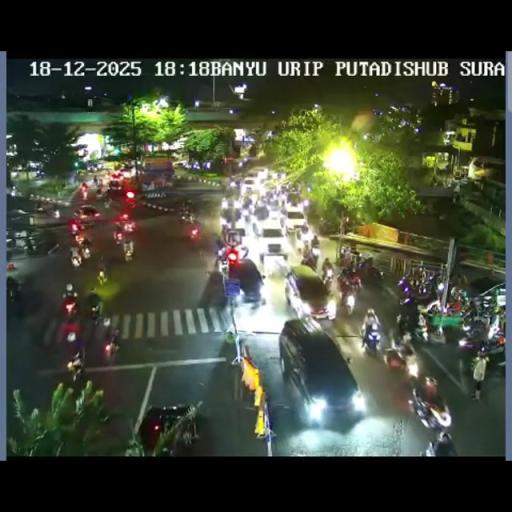Car: (280, 318, 362, 423), (138, 403, 201, 454), (283, 263, 334, 320), (226, 257, 264, 304), (258, 221, 290, 264), (282, 209, 308, 238), (226, 224, 248, 250), (75, 204, 102, 222), (240, 176, 262, 194), (118, 166, 136, 181), (108, 178, 122, 192), (270, 170, 284, 181)
Motorcycle: (48, 284, 118, 378), (409, 387, 452, 434), (472, 342, 506, 395), (200, 266, 226, 309), (336, 270, 362, 312), (417, 306, 446, 342), (397, 337, 420, 378), (424, 429, 459, 455), (460, 314, 490, 344), (355, 259, 384, 289), (66, 346, 86, 382), (360, 321, 381, 354), (103, 334, 121, 366), (448, 285, 468, 311), (395, 313, 411, 342), (396, 275, 414, 300), (6, 276, 22, 304), (61, 294, 79, 318), (178, 206, 196, 225), (216, 254, 230, 277), (318, 218, 338, 234), (78, 238, 92, 260), (88, 302, 102, 324), (240, 202, 254, 224), (452, 265, 466, 287), (434, 272, 448, 294), (188, 220, 202, 241), (122, 238, 134, 262), (213, 233, 226, 255), (322, 266, 334, 289), (417, 280, 432, 298), (339, 249, 353, 268), (70, 247, 82, 268), (266, 194, 280, 212), (96, 264, 107, 286), (254, 204, 268, 221), (121, 218, 135, 234), (68, 218, 82, 234), (296, 235, 306, 256), (25, 236, 36, 255), (309, 249, 319, 269), (452, 179, 462, 199), (6, 234, 16, 253), (252, 218, 262, 236), (114, 226, 124, 242), (278, 190, 287, 207), (232, 178, 242, 193), (103, 196, 113, 210), (300, 198, 310, 212), (234, 206, 242, 222), (220, 196, 228, 211), (50, 208, 60, 218), (81, 185, 88, 199), (95, 187, 103, 199), (34, 200, 42, 212), (10, 186, 18, 196), (92, 175, 98, 186), (97, 178, 102, 186)
